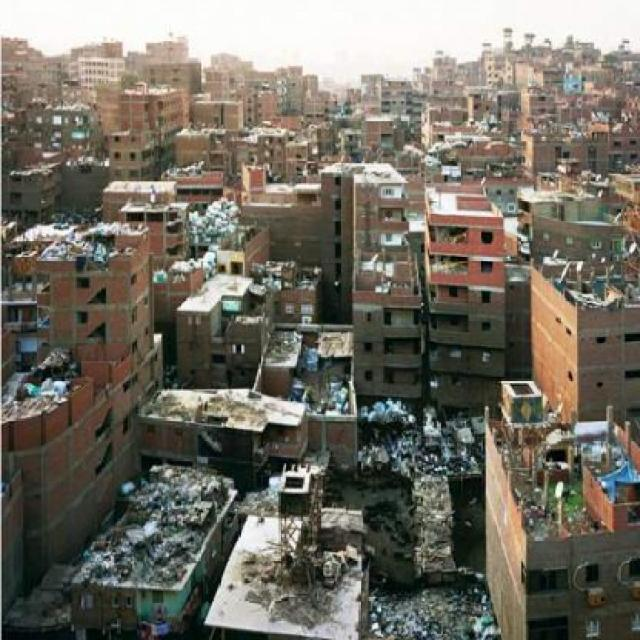garbage: (355, 391, 482, 485), (374, 560, 499, 638), (83, 519, 180, 592), (140, 462, 216, 534), (42, 211, 128, 267), (300, 338, 354, 416), (8, 346, 62, 413), (185, 194, 244, 246), (155, 251, 232, 282), (232, 472, 280, 514)
